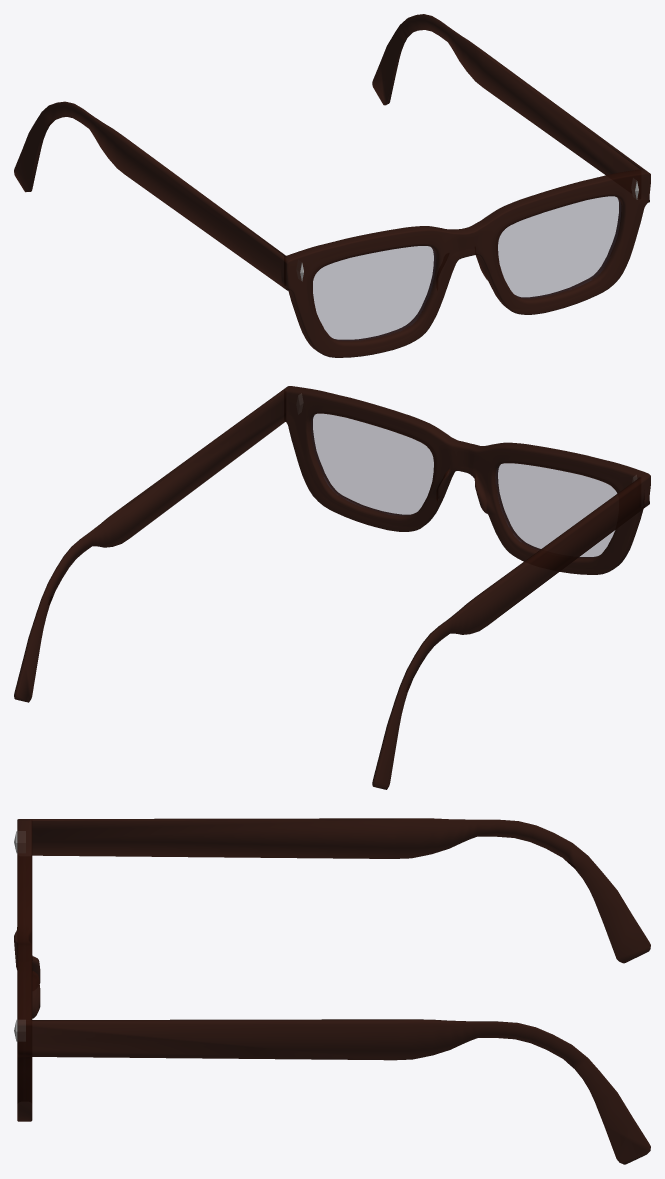
3 renders of one model, top to bottom at view 1: azimuth 30°, elevation 25°; view 2: azimuth 150°, elevation 25°; view 3: azimuth 270°, elevation 25°, orthographic. The views are drawn at different scales.
Visible parts, largest first — view 1: Cube; view 2: Cube; view 3: Cube.
Part boxes in pixels (left/top/right/bottom): Cube: left=14, top=14, right=650, bottom=357; Cube: left=14, top=386, right=650, bottom=789; Cube: left=14, top=818, right=650, bottom=1164.
Size of the model in its own units: 14.14 by 4.72 by 18.56.
